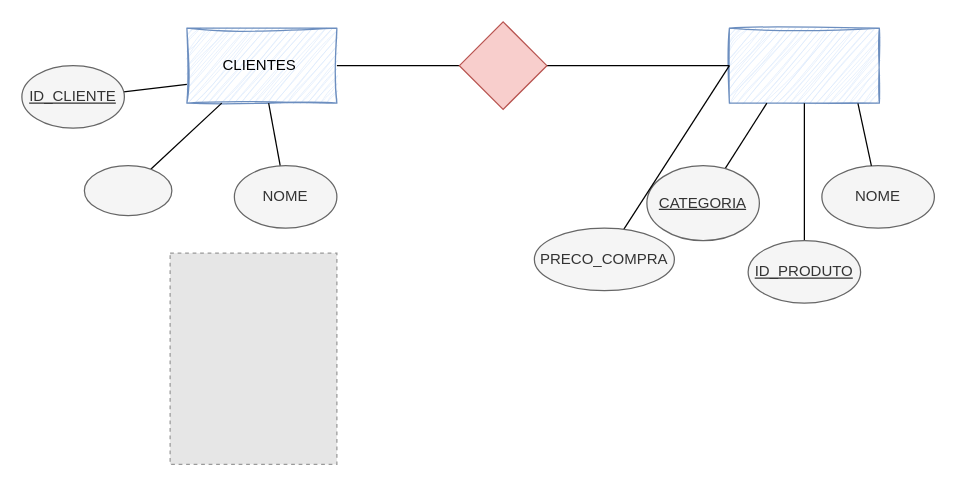
Image size: 956x486. Some labels were removed from this diagram. Grey dashed boxes stand in for pictures. Here are the shapes that lost their labels. From the top down, the centre of each, then its label:
At point (803, 65): "PRODUTOS".
At point (127, 190): "CPF".
